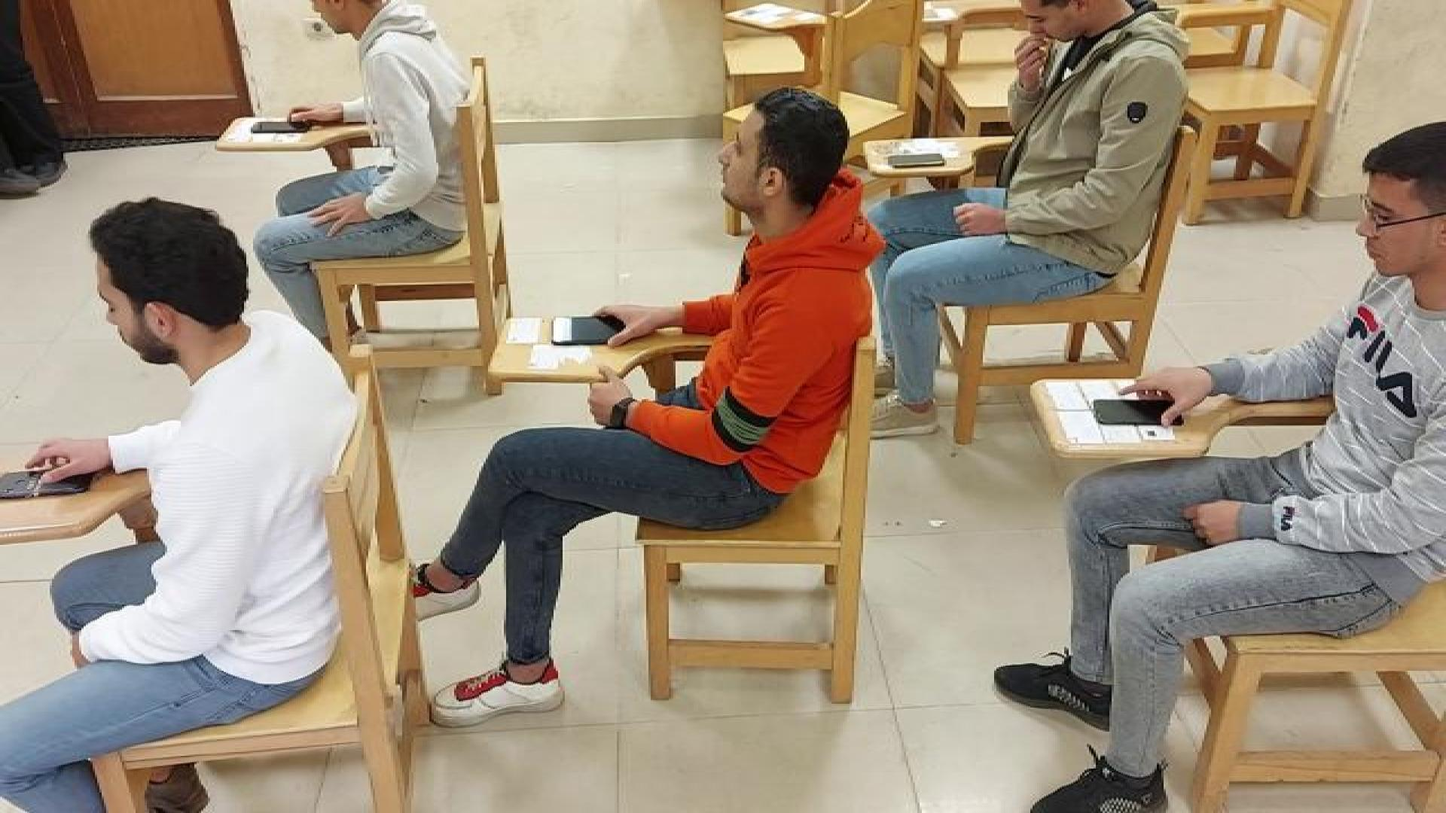phone: (0, 470, 99, 505), (1091, 397, 1191, 422), (546, 318, 629, 346), (883, 151, 947, 170), (253, 118, 316, 135)
